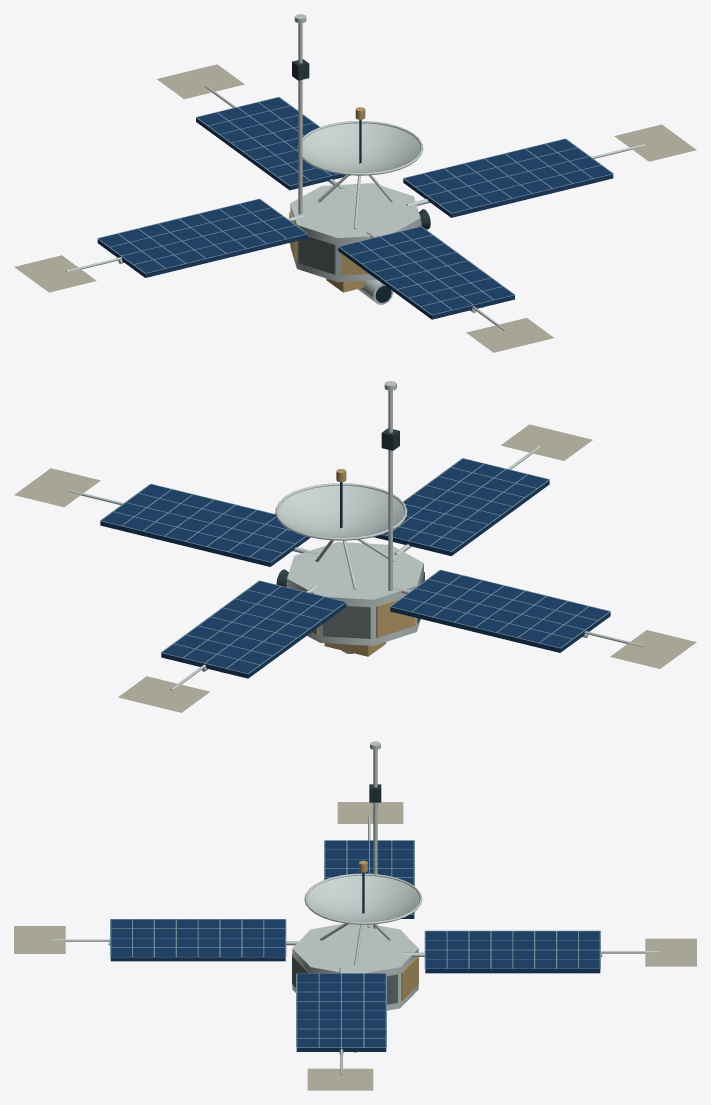
File: mariner-4.glb
3 renders of one model, top to bottom at view 1: azimuth 30°, elevation 25°; view 2: azimuth 150°, elevation 25°; view 3: azimuth 270°, elevation 25°, orthographic. The views are drawn at different scales.
Parts seen in each view (by area): view 1: mariner-solar-wing-1, mariner-solar-wing-3, mariner-solar-wing-2, solar, mariner-solar-pressure-vane (×4), mariner-octagonal-bus, mariner-solar-wing-4, mariner-high-gain-dish, antenna, body, mariner-low-gain-mast, instruments; view 2: mariner-solar-wing-3, mariner-solar-wing-4, mariner-solar-wing-1, mariner-solar-wing-2, solar, mariner-solar-pressure-vane (×4), mariner-octagonal-bus, mariner-high-gain-dish, body, antenna, mariner-low-gain-mast; view 3: mariner-solar-wing-4, mariner-solar-wing-2, mariner-solar-wing-1, solar, mariner-solar-pressure-vane (×4), mariner-octagonal-bus, mariner-high-gain-dish, mariner-solar-wing-3, antenna, body, mariner-low-gain-mast.
Part boxes in pixels (left/top/right/bottom): mariner-solar-wing-1: left=403, top=139, right=613, bottom=217; mariner-solar-wing-3: left=97, top=199, right=307, bottom=277; mariner-solar-wing-2: left=338, top=227, right=514, bottom=319; solar: left=65, top=85, right=645, bottom=330; mariner-solar-pressure-vane (×4): left=14, top=64, right=696, bottom=352; mariner-octagonal-bus: left=290, top=183, right=420, bottom=282; mariner-solar-wing-4: left=196, top=97, right=350, bottom=190; mariner-high-gain-dish: left=302, top=123, right=420, bottom=172; antenna: left=294, top=14, right=423, bottom=228; body: left=289, top=211, right=421, bottom=275; mariner-low-gain-mast: left=298, top=23, right=302, bottom=214; instruments: left=358, top=280, right=393, bottom=304; mariner-solar-wing-3: left=390, top=570, right=610, bottom=652; mariner-solar-wing-4: left=161, top=581, right=346, bottom=678; mariner-solar-wing-1: left=100, top=484, right=310, bottom=566; mariner-solar-wing-2: left=373, top=459, right=549, bottom=555; solar: left=67, top=445, right=643, bottom=690; mariner-solar-pressure-vane (×4): left=14, top=424, right=696, bottom=712; mariner-octagonal-bus: left=287, top=542, right=423, bottom=645; mariner-high-gain-dish: left=278, top=485, right=404, bottom=537; body: left=286, top=572, right=424, bottom=638; antenna: left=275, top=381, right=407, bottom=589; mariner-low-gain-mast: left=388, top=390, right=392, bottom=590; mariner-solar-wing-4: left=425, top=931, right=600, bottom=973; mariner-solar-wing-2: left=110, top=919, right=285, bottom=961; mariner-solar-wing-1: left=296, top=973, right=386, bottom=1051; solar: left=51, top=816, right=659, bottom=1074; mariner-solar-pressure-vane (×4): left=14, top=802, right=696, bottom=1090; mariner-octagonal-bus: left=292, top=923, right=418, bottom=1010; mariner-high-gain-dish: left=307, top=875, right=419, bottom=922; mariner-solar-wing-3: left=325, top=840, right=414, bottom=918; antenna: left=304, top=741, right=422, bottom=964; body: left=292, top=954, right=418, bottom=1004; mariner-low-gain-mast: left=373, top=749, right=377, bottom=928.
Bounding box in the file's own units: 6.86 × 2.9 × 6.86.
